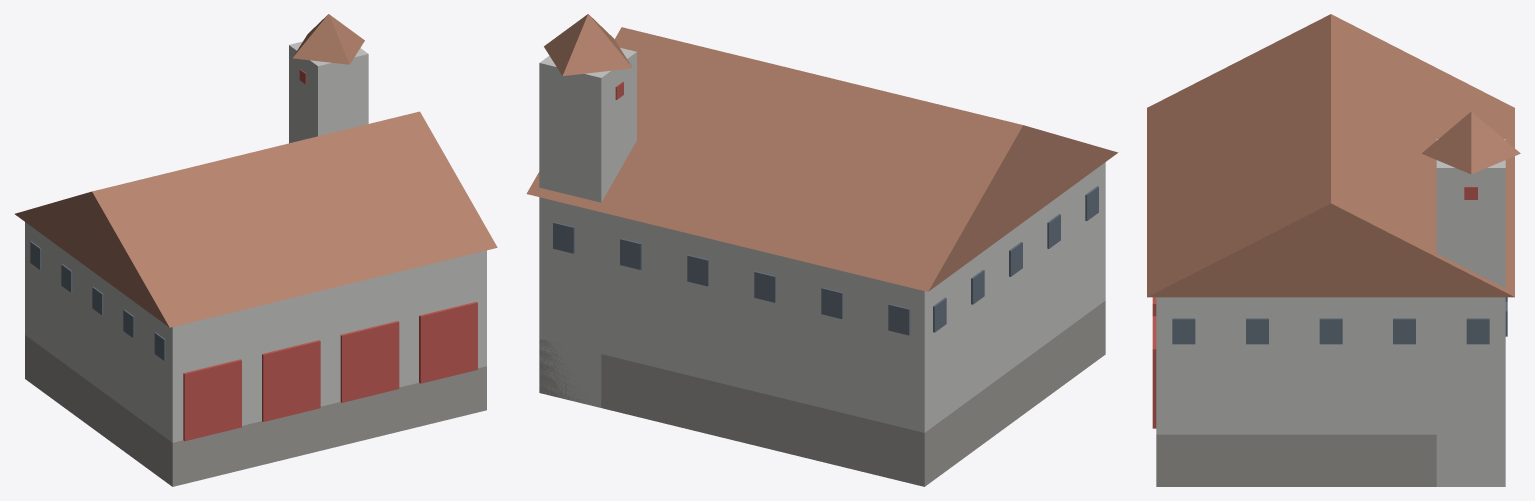
The model's file is landmark-fire_station-freiwillige-feuerwehr-mappach.glb.
3 views of the same model, side by side, from view 1: azimuth 30°, elevation 25°; view 2: azimuth 150°, elevation 25°; view 3: azimuth 270°, elevation 25° (orthographic). The views are drawn at different scales.
Visible parts, largest first — view 1: building; view 2: building; view 3: building.
Boxes of the visible parts, box(x1,y1,x2,y2) form: building: box(15, 14, 497, 486); building: box(526, 14, 1118, 486); building: box(1147, 14, 1520, 486).
Bounding box in the file's own units: 19.72 × 17.28 × 16.24.
